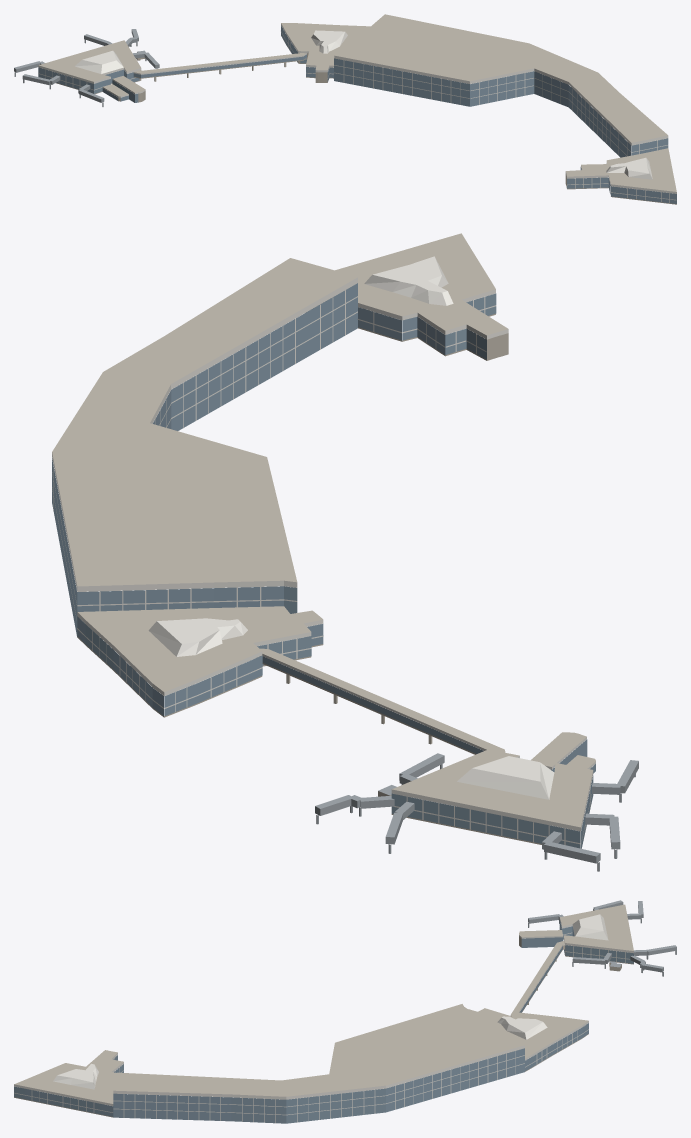
File: paris-cdg-terminal-1-satellites-t-w.detail.glb
3 renders of one model, top to bottom at view 1: azimuth 30°, elevation 25°; view 2: azimuth 150°, elevation 25°; view 3: azimuth 270°, elevation 25°, orthographic. The views are drawn at different scales.
Parts seen in each view (by area): view 1: Paris-CDG Terminal 1 Satellites T–W; view 2: Paris-CDG Terminal 1 Satellites T–W; view 3: Paris-CDG Terminal 1 Satellites T–W.
Boxes of the visible parts, <box> form: Paris-CDG Terminal 1 Satellites T–W: <box>14,14,676,204</box>; Paris-CDG Terminal 1 Satellites T–W: <box>52,233,638,871</box>; Paris-CDG Terminal 1 Satellites T–W: <box>14,900,676,1123</box>.
Bounding box in the file's own units: 343 × 20 × 447.
